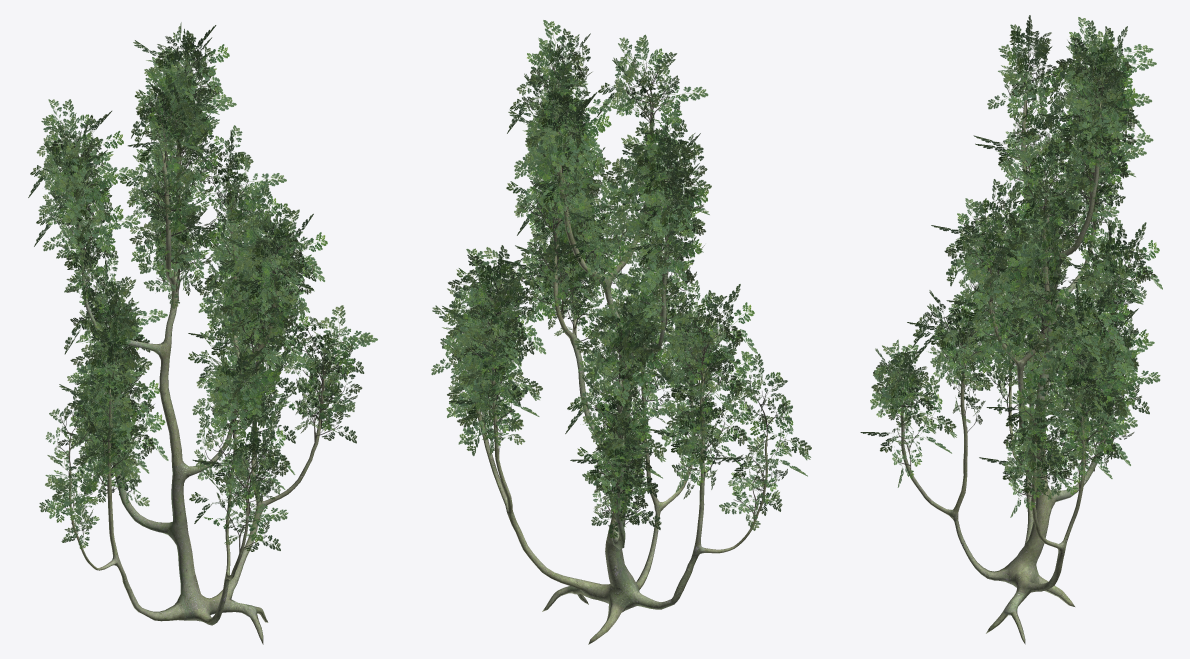
The model's file is treepack4_small.glb.
3 views of the same model, side by side, from view 1: azimuth 30°, elevation 25°; view 2: azimuth 150°, elevation 25°; view 3: azimuth 270°, elevation 25° (orthographic). The views are drawn at different scales.
Visible parts, largest first — view 1: tree4, branch4-3.027, branch4-3.047, branch4-3.011, branch4-3.028, branch4-3.034, branch4-3.015, branch4-3.017, branch4-3.050, branch4-3.006, branch4-3.046, branch4-3.022 (+87 smaller); view 2: tree4, branch4-3.011, branch4-3.015, branch4-3.029, branch4-3.028, branch4-3.008, branch4-1.008, branch4-3.034, branch4-3.016, branch4-3.044, branch4-3.013, branch4-3.026 (+84 smaller); view 3: tree4, branch4-3.022, branch4-3.013, branch4-3.027, branch4-3.034, branch4-3.005, branch4-3.014, branch4-3.006, branch4-3.047, branch4-3.009, branch4-3.046, branch4-1.017 (+84 smaller).
Boxes of the visible parts, x1,y1,x2,y2 form: tree4: (69,116,325,644); branch4-3.027: (189,469,288,552); branch4-3.047: (192,411,295,518); branch4-3.011: (39,450,98,523); branch4-3.028: (74,421,136,492); branch4-3.034: (127,80,207,194); branch4-3.015: (70,322,142,396); branch4-3.017: (273,353,357,443); branch4-3.050: (192,347,273,420); branch4-3.006: (133,25,229,105); branch4-3.046: (274,317,377,393); branch4-3.022: (283,296,371,377); tree4: (472,115,767,644); branch4-3.011: (715,396,811,514); branch4-3.015: (645,284,757,387); branch4-3.029: (644,333,757,436); branch4-3.028: (647,386,757,492); branch4-3.008: (573,328,667,412); branch4-1.008: (722,351,787,446); branch4-3.034: (597,57,708,139); branch4-3.016: (457,380,530,455); branch4-3.044: (442,282,549,374); branch4-3.013: (448,247,542,320); branch4-3.026: (565,374,677,453); tree4: (901,91,1113,644); branch4-3.022: (986,350,1082,462); branch4-3.013: (1026,283,1129,372); branch4-3.027: (860,375,956,487); branch4-3.034: (987,44,1061,117); branch4-3.005: (931,182,1038,286); branch4-3.014: (1062,222,1162,314); branch4-3.006: (1053,31,1153,99); branch4-3.047: (870,344,930,418); branch4-3.009: (1014,134,1088,249); branch4-3.046: (1006,361,1067,474); branch4-1.017: (1022,137,1087,224).
Bounding box in the file's own units: 29.46 × 46.74 × 22.48.
Materials: 3 (3 with a texture image).
